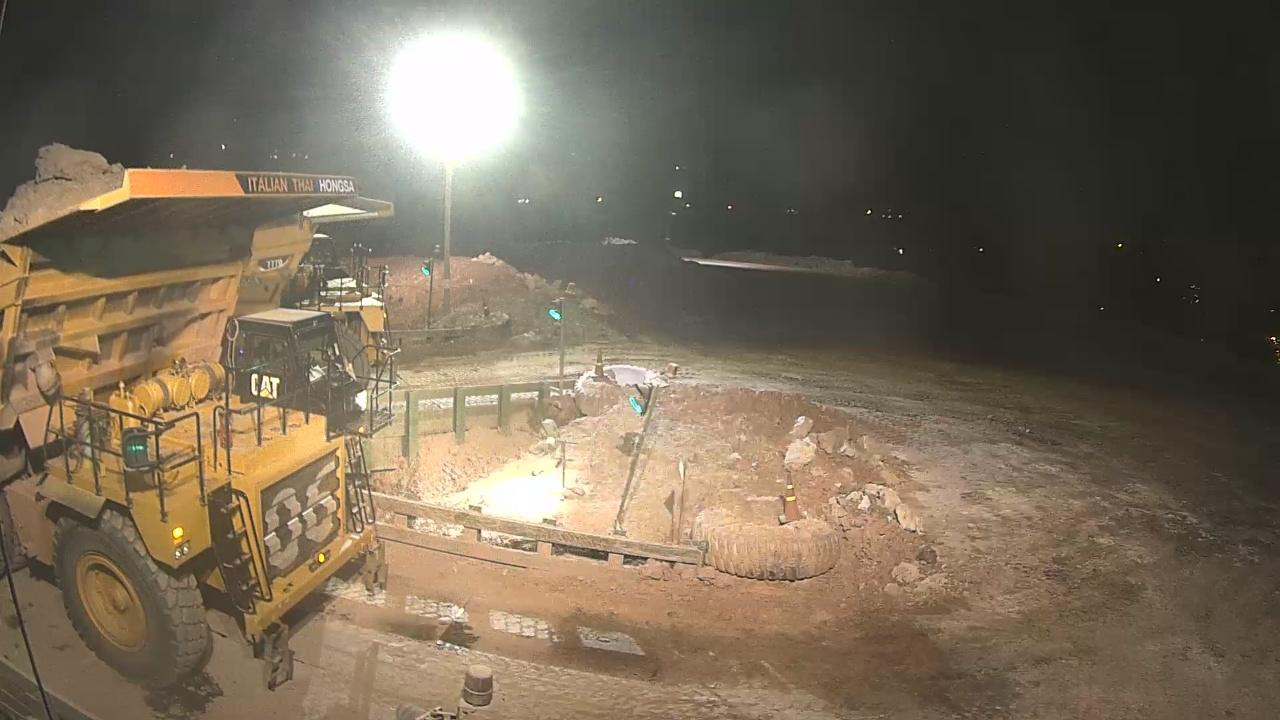dumping_soil: (1, 147, 401, 692)
front_number: (257, 454, 351, 571)
